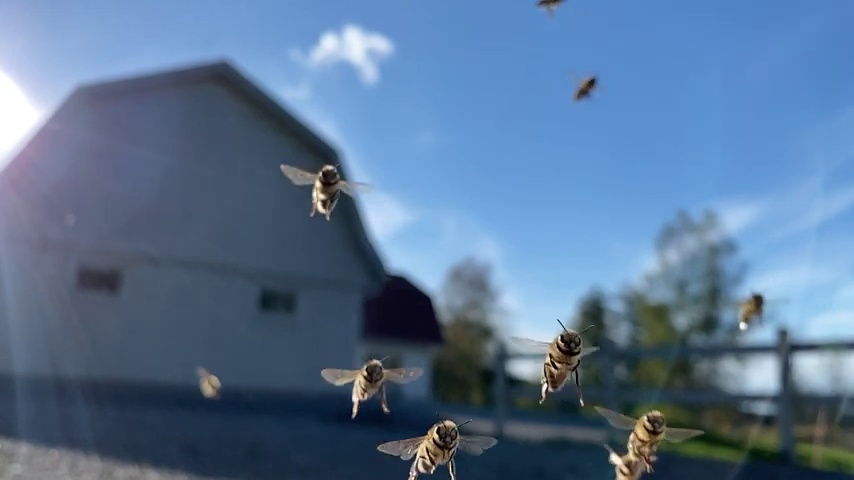insect: (372, 412, 499, 480), (593, 406, 697, 480), (517, 322, 605, 405), (321, 354, 424, 417), (278, 162, 371, 222), (734, 289, 771, 329), (571, 72, 603, 105), (539, 1, 568, 16)
